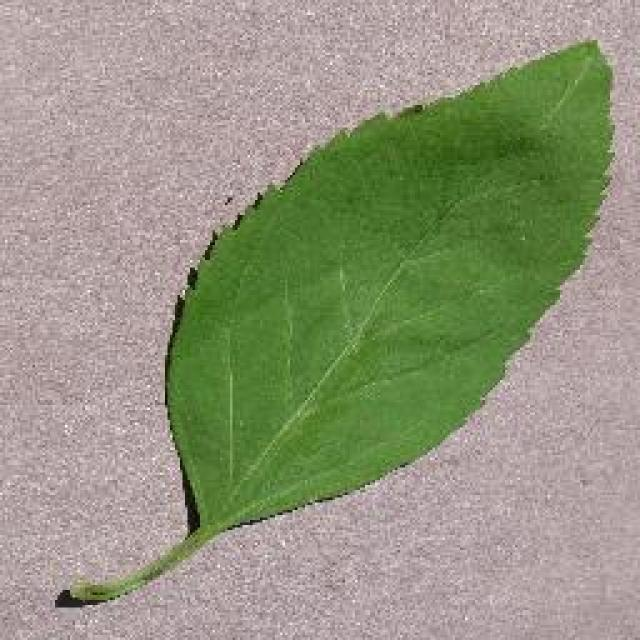Cherry___healthy: (55, 22, 627, 622)
